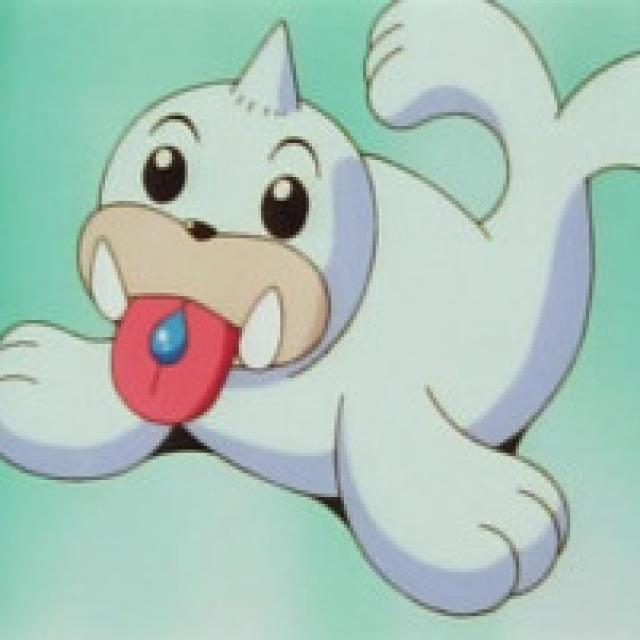Seel: (92, 3, 640, 480)
